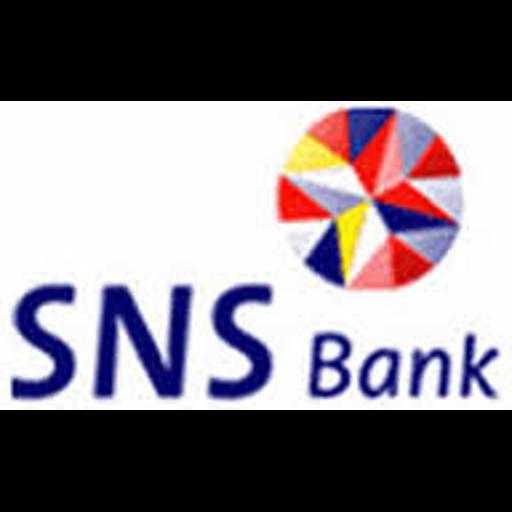SNS Bank N-V: (0, 101, 512, 410)
